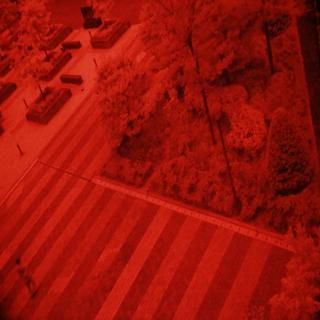person: (14, 253, 45, 302)
